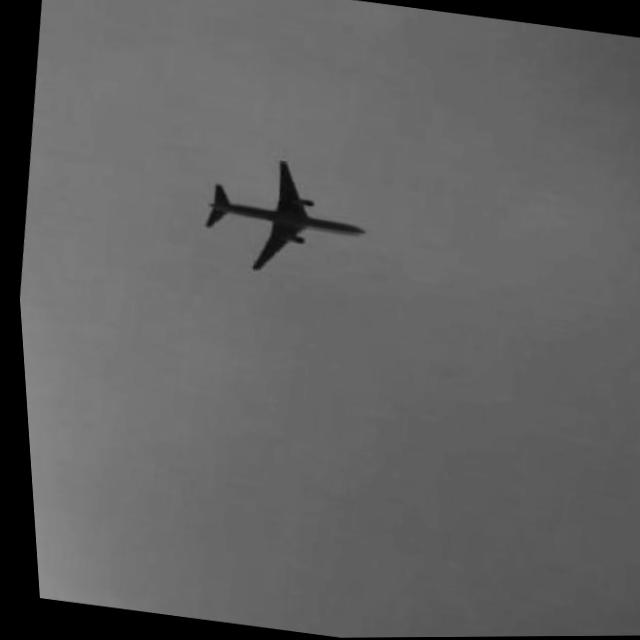aeroplane: (195, 148, 374, 284)
